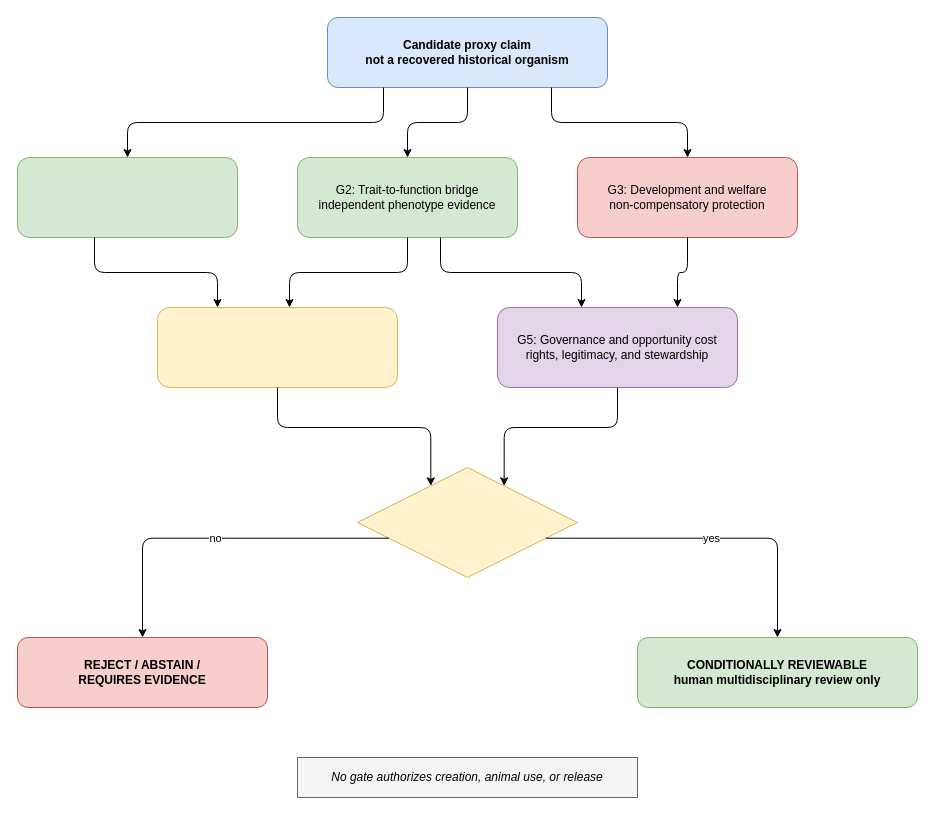
Some shapes in this 935 by 815 pixel diagram are drawn without their labels. Each missing label, with the centre of its shape:
All gates clear under uncertainty scenarios?: the point at 467,522
G1: Genomic provenance observed vs reconstructed vs unknown: the point at 127,197
G4: Ecological counterfactual site-specific benefit vs alternatives: the point at 277,347
